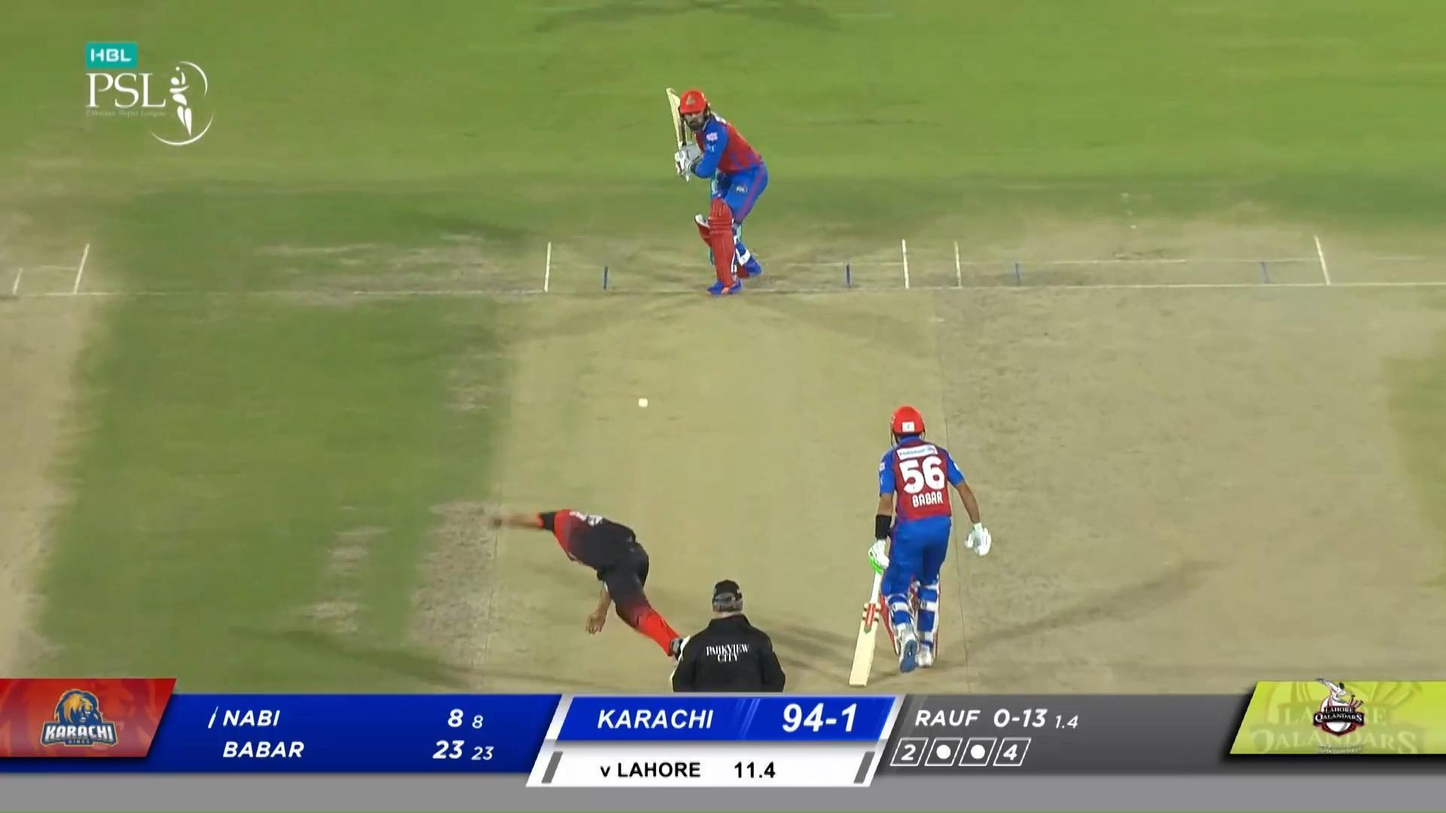BM 1: (664, 84, 770, 296)
BO: (487, 507, 693, 665)
